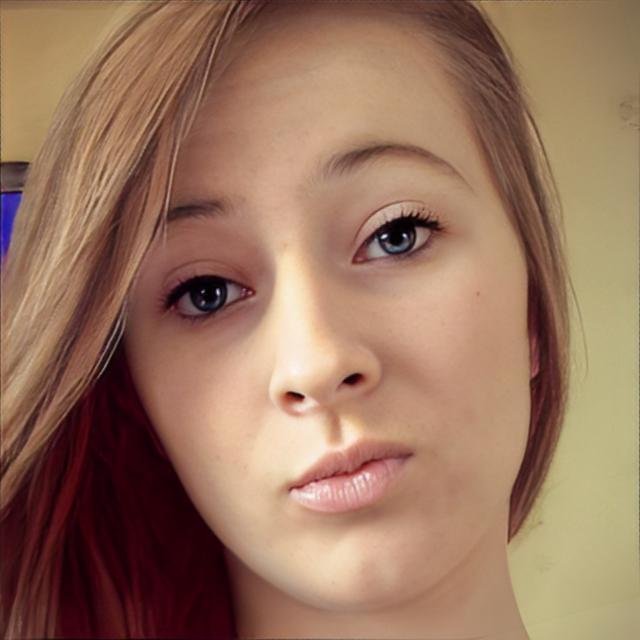neutral: (115, 38, 527, 608)
